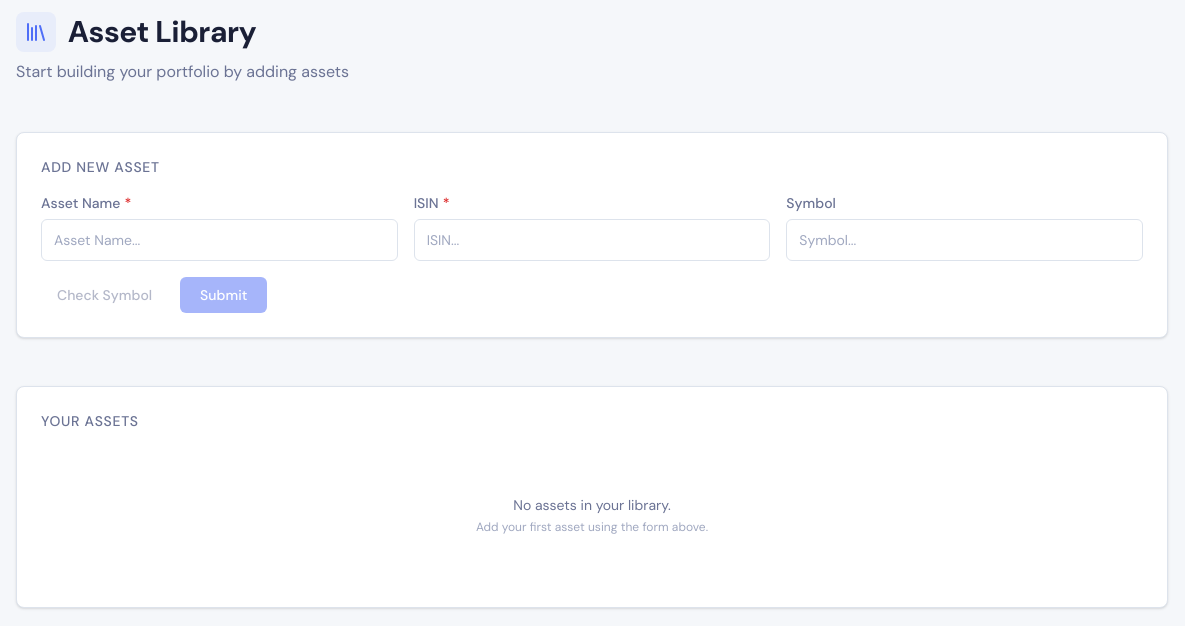
Test: Assets tab › adds a new asset that appears in the table after form submission
In the field labelled "Asset Name*": (219, 240) [41,219,398,261], type "Microsoft"
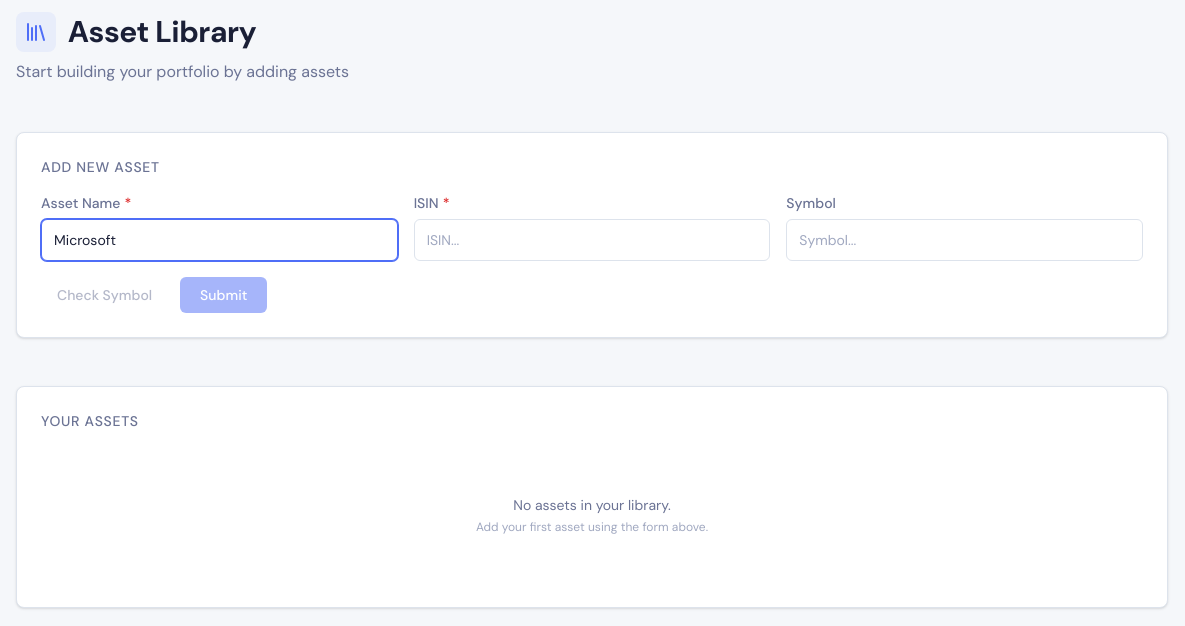
In the field labelled "ISIN*": (592, 240) [414,219,770,261], type "US5949181045"
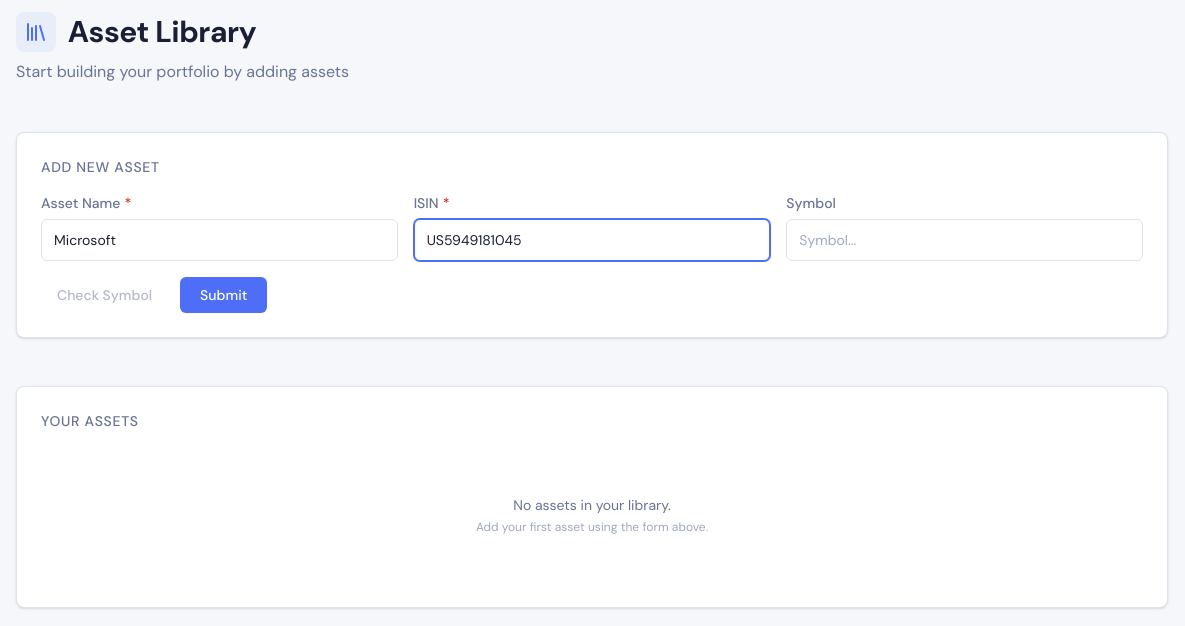
Click the button "Submit": (224, 295) [180,277,267,313]
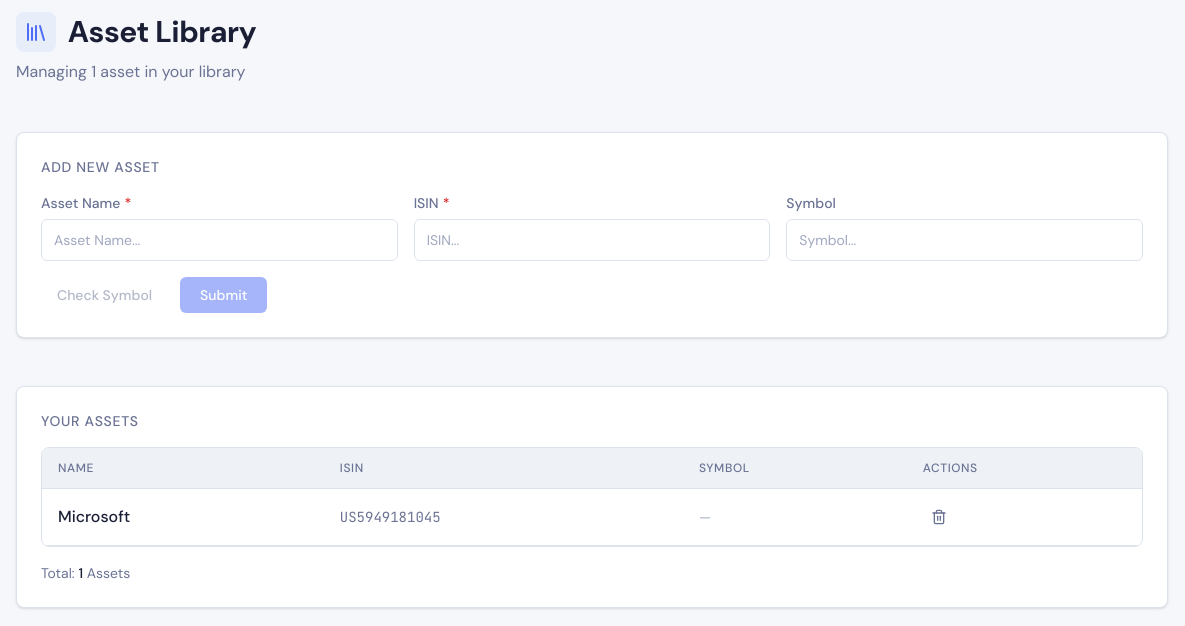
expect the cell "Microsoft" is shown: met, box [42,488,324,546]
expect the cell "US5949181045" is shown: met, box [324,488,683,546]
